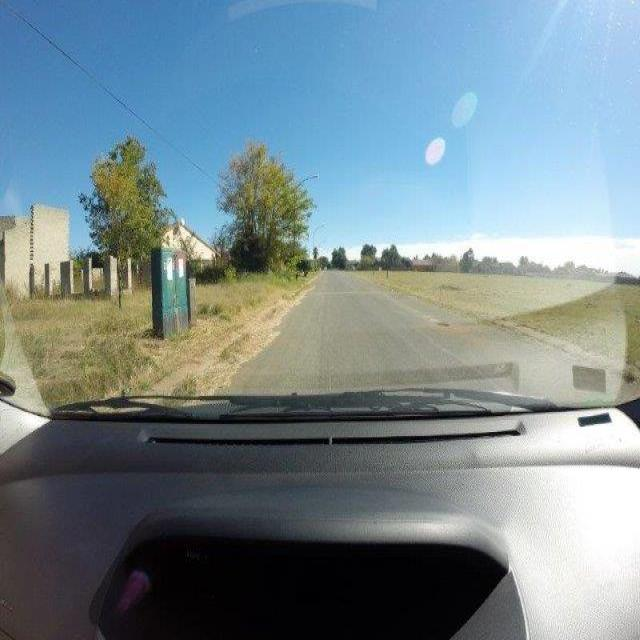lubang: (435, 316, 451, 331)
